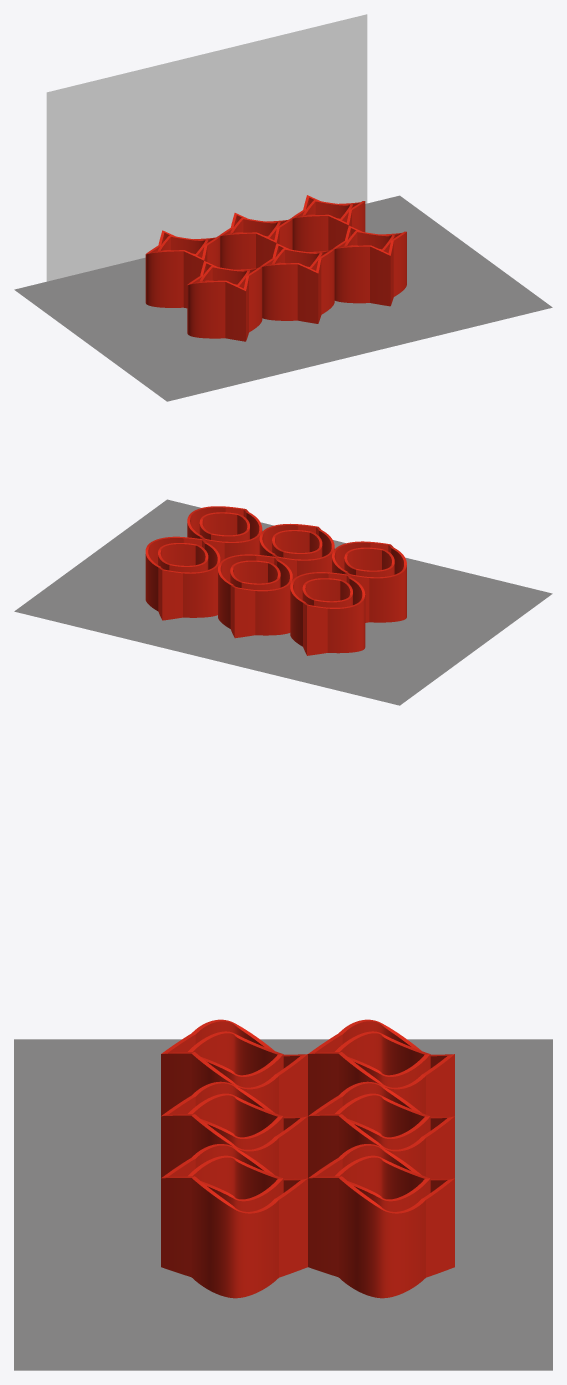
Rendered from modell1.glb.
The picture shows the model from 3 angles, top to bottom: view 1: azimuth 30°, elevation 25°; view 2: azimuth 150°, elevation 25°; view 3: azimuth 270°, elevation 25°; orthographic projection. The views are drawn at different scales.
Bounding box in the file's own units: 0.32 × 0.15 × 0.22.
